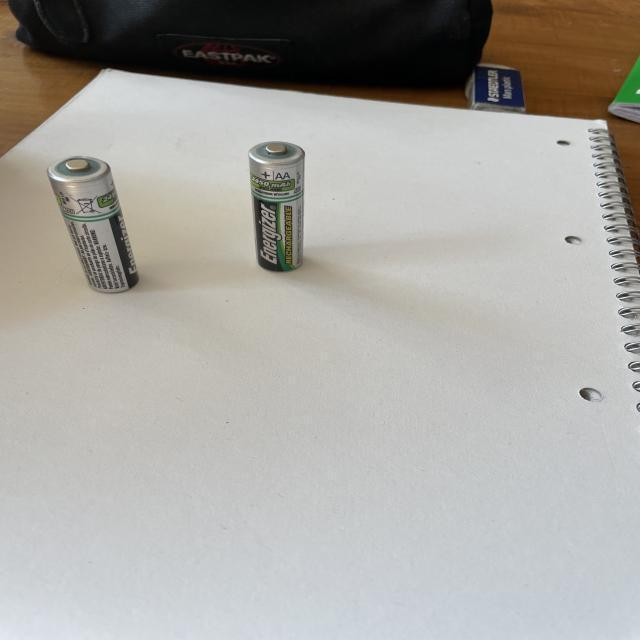Hazard: (46, 154, 144, 296), (245, 138, 308, 276)
